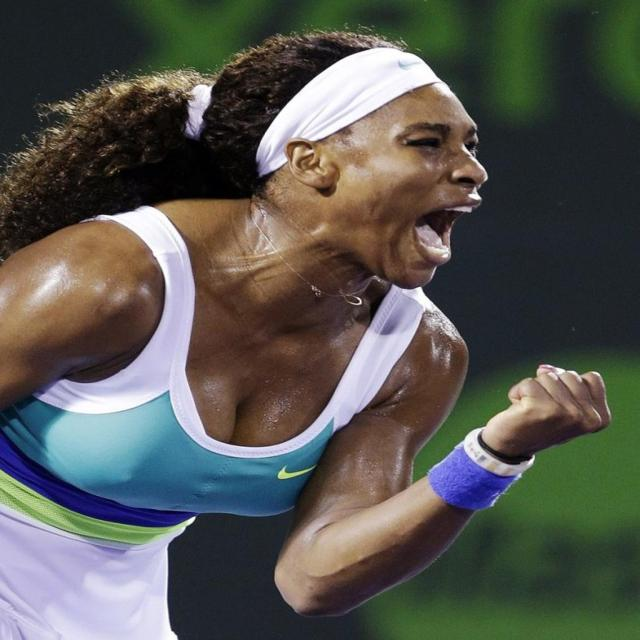Face: (348, 82, 492, 299)
